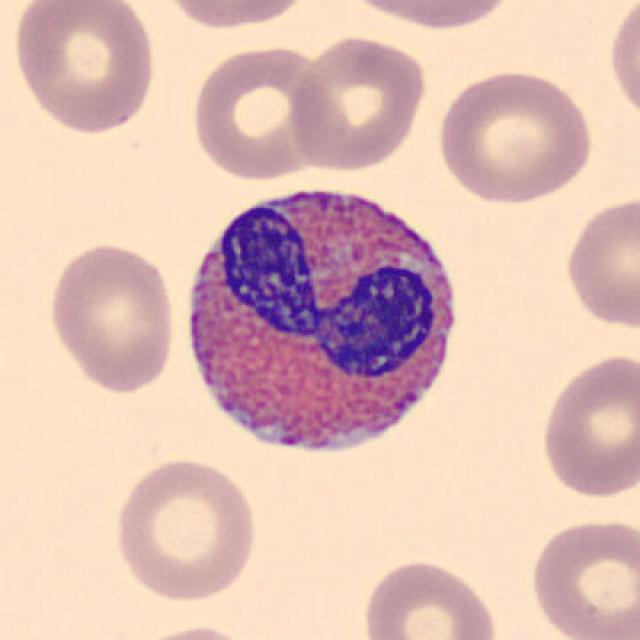Eosinophil: (171, 164, 471, 474)
RBC: (108, 453, 262, 605), (432, 66, 597, 206), (42, 238, 180, 397), (9, 0, 160, 138), (186, 43, 332, 184), (286, 32, 430, 173), (535, 349, 638, 501), (526, 515, 638, 640), (358, 555, 502, 640), (560, 192, 638, 332), (339, 0, 520, 33), (154, 0, 316, 32), (604, 0, 639, 130), (124, 620, 259, 640)
